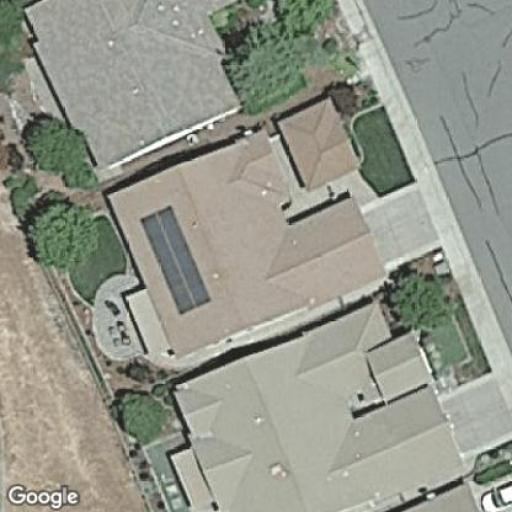solar-panel: (140, 204, 212, 317)
